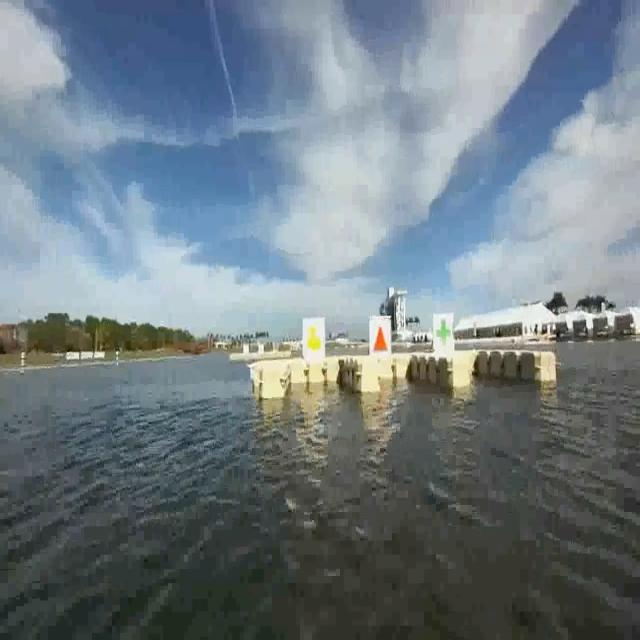blue-cross: (434, 313, 455, 352)
red-dot: (371, 320, 392, 356)
yellow-duck: (304, 318, 325, 352)
